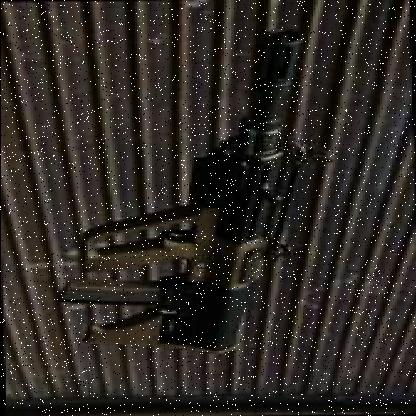rifle: (40, 18, 326, 355)
